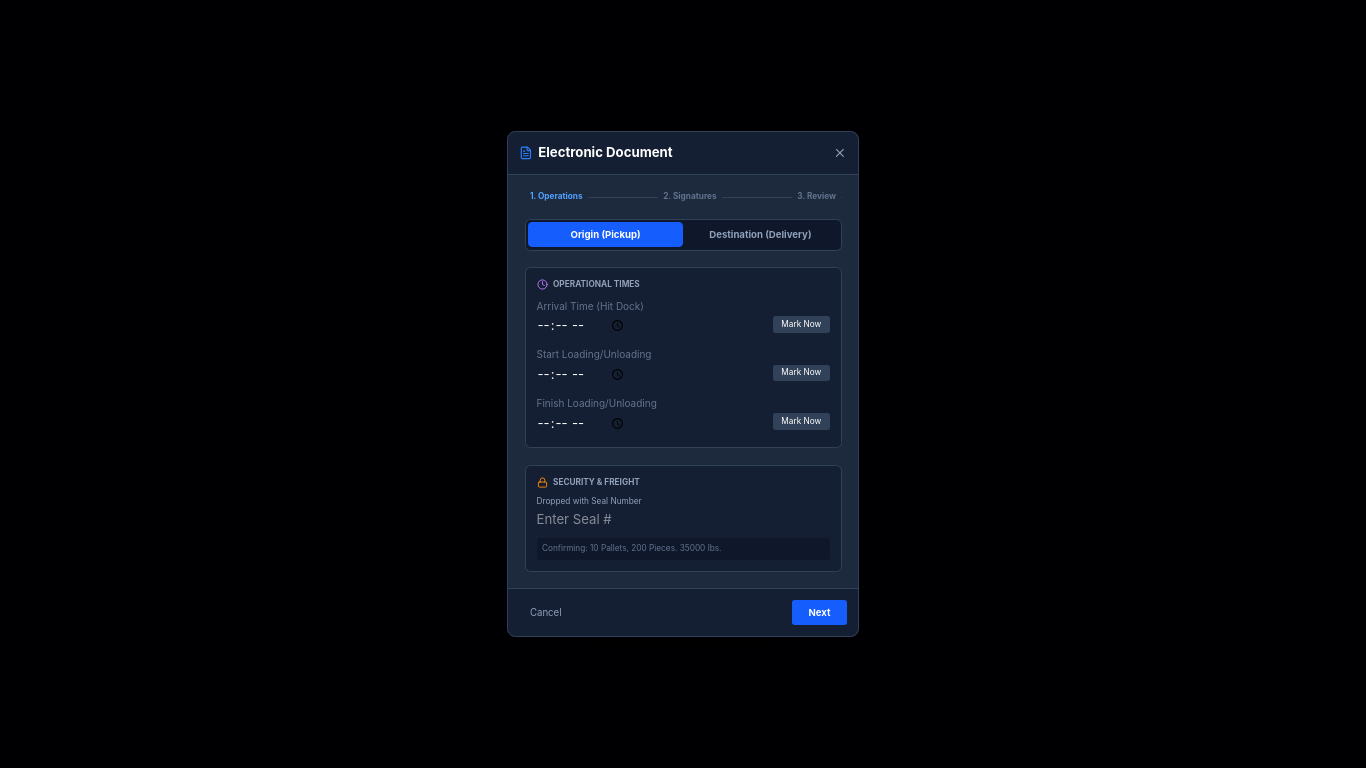
Test: BolGenerator › shows Proof of Delivery label on step 3 when type is Delivery
Click the button "Destination (Delivery)". click: (760, 235)
box: [683,222,838,247]
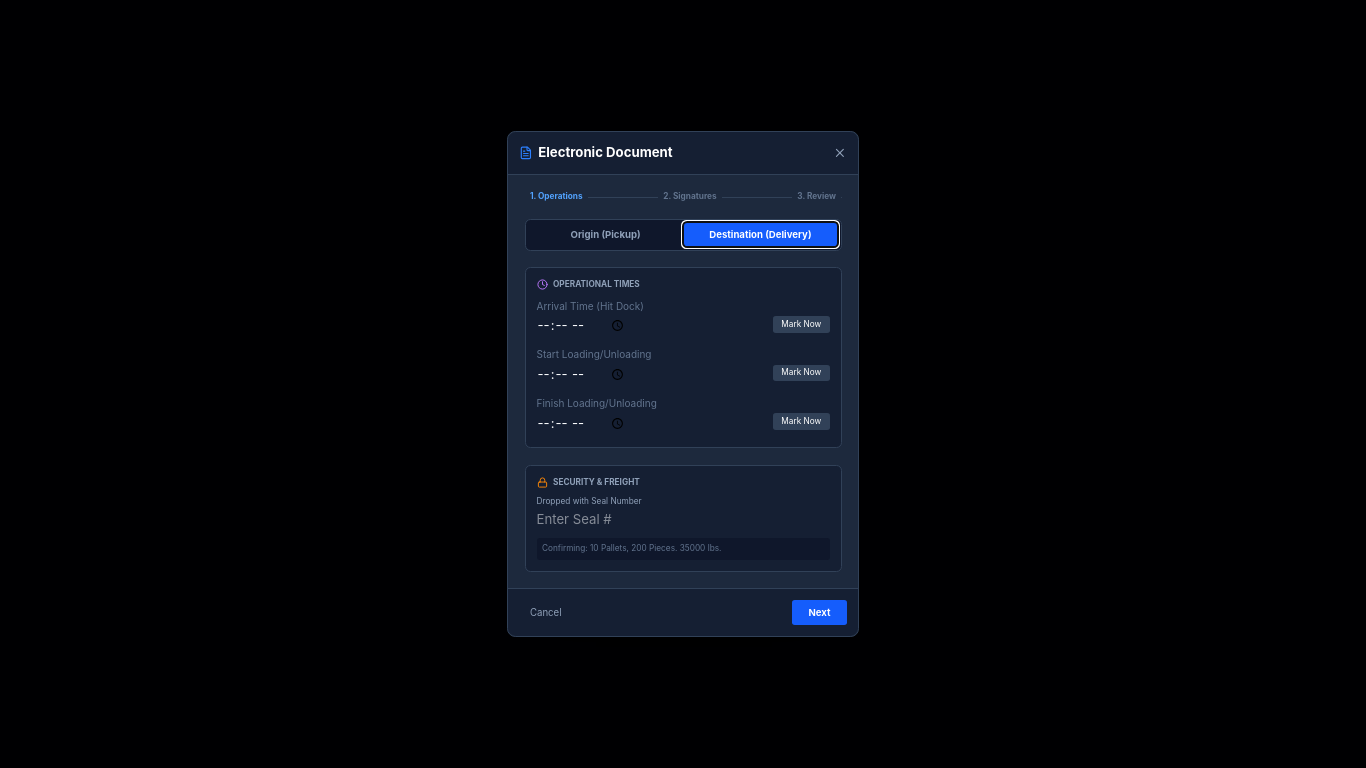
Click the button "Next". click: (819, 613)
box: [792,600,847,625]
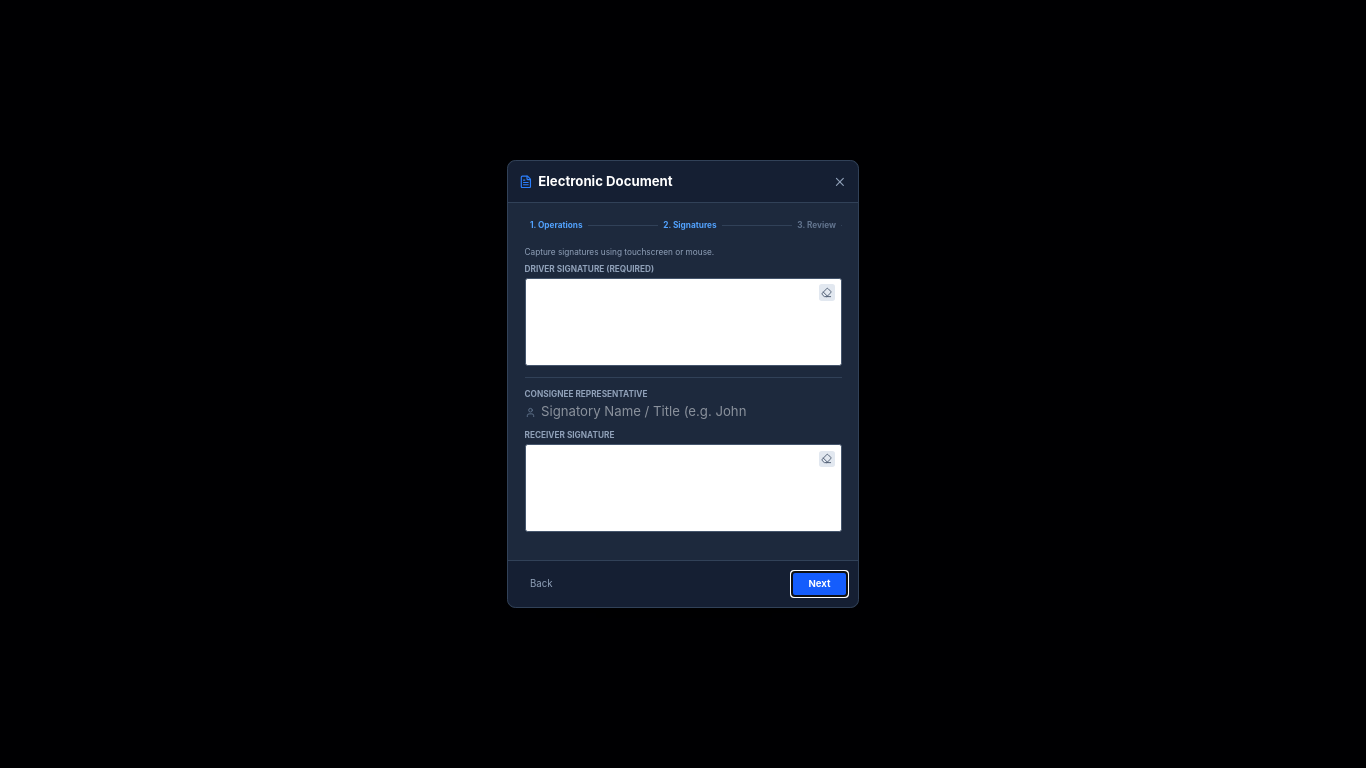
Click the button "Next". click: (819, 584)
box: [792,572,847,596]
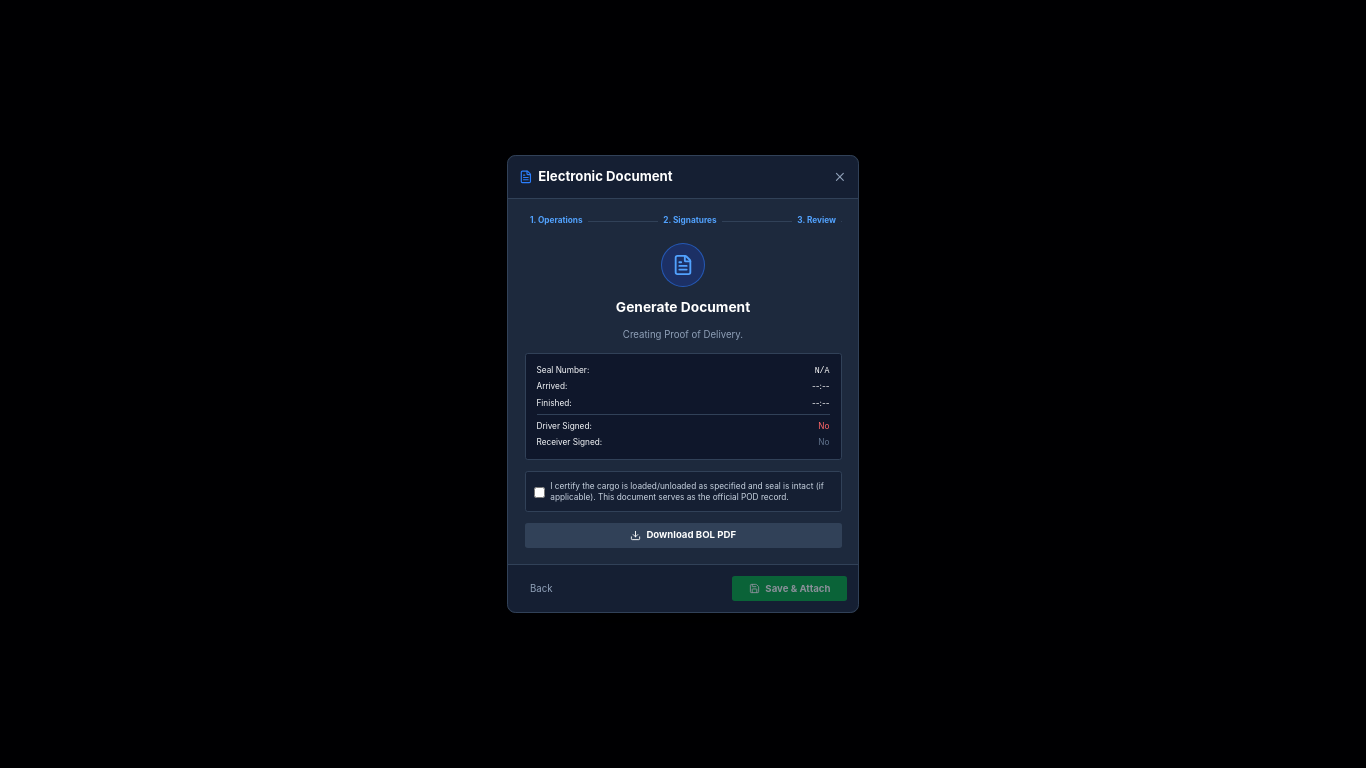
Now the text "Creating Proof of Delivery." is shown, box [623,329,743,340]
